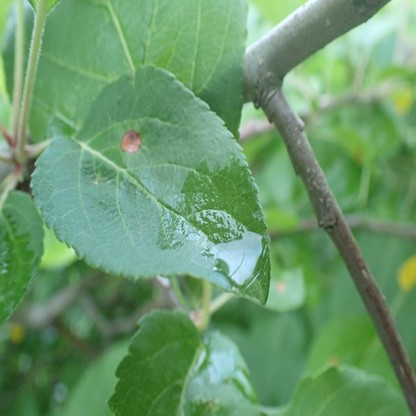frogeye_leaf_spot: (120, 130, 142, 154)
